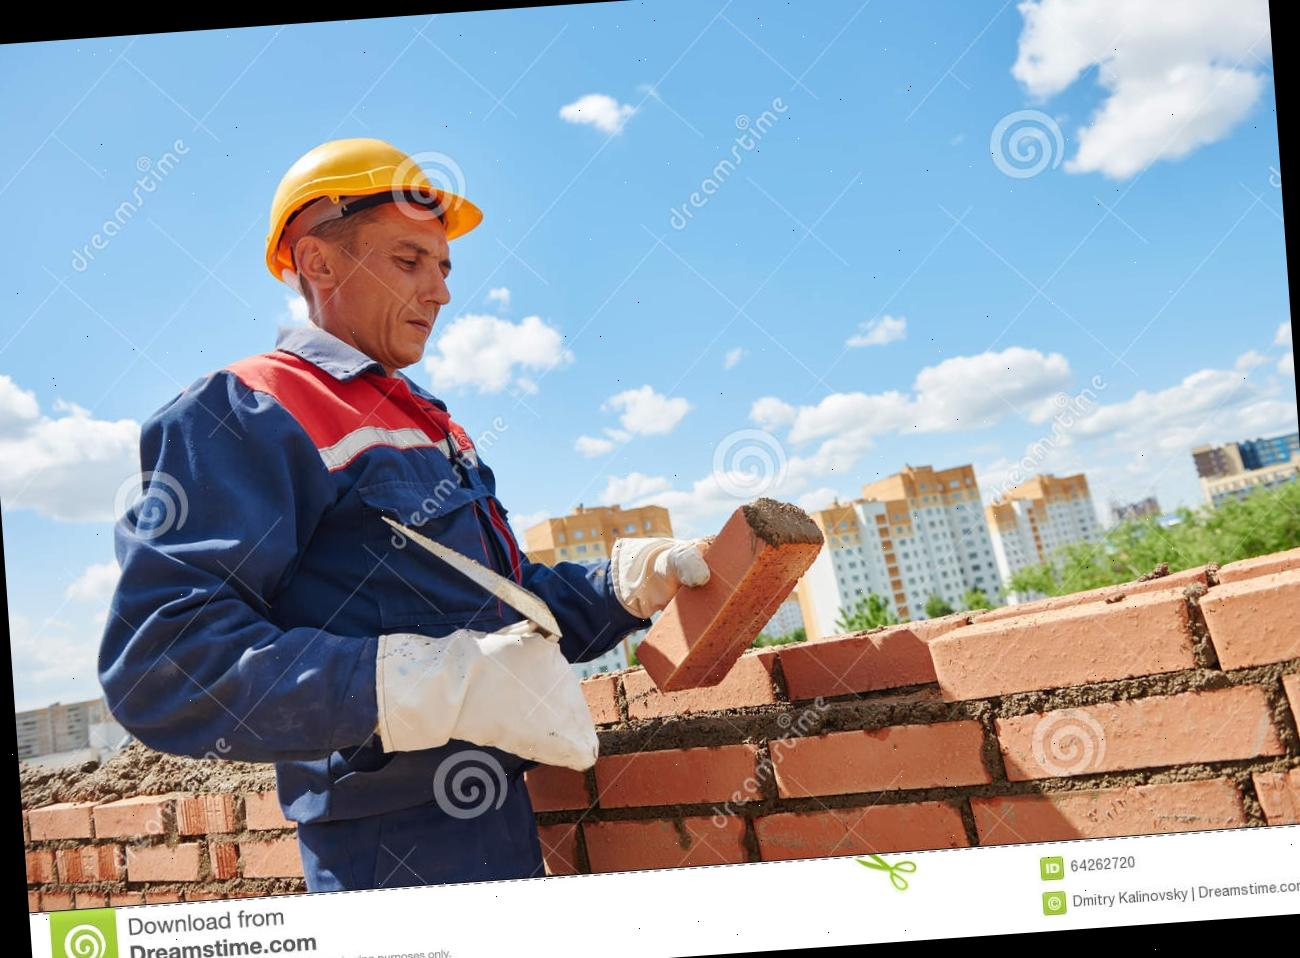helmet: (258, 124, 490, 279)
wear: (91, 342, 553, 903)
